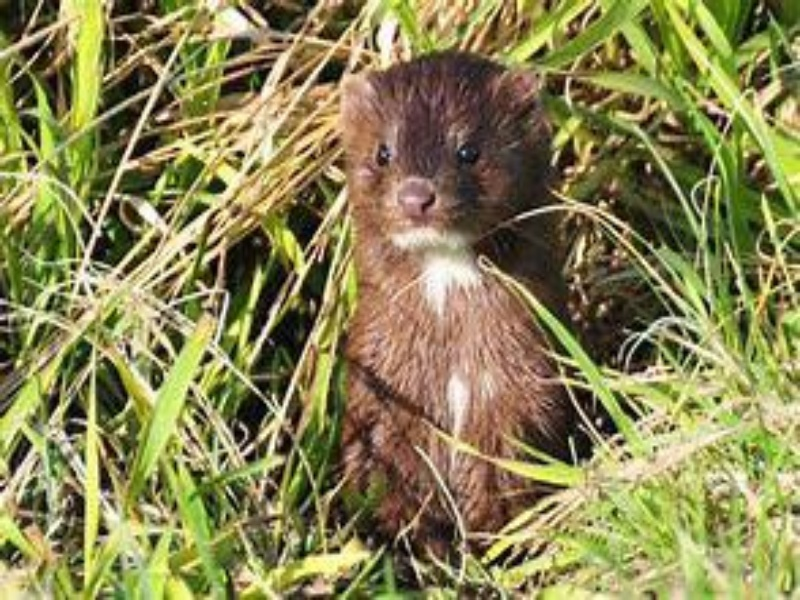minkish: (329, 49, 603, 565)
